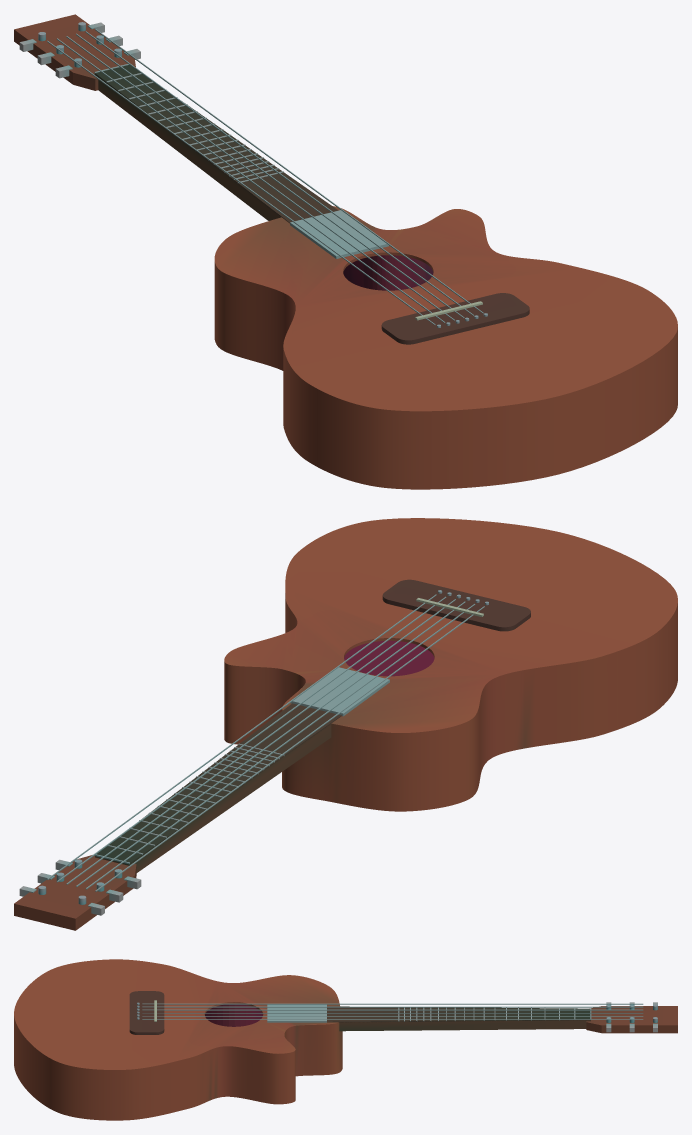
3 renders of one model, top to bottom at view 1: azimuth 30°, elevation 25°; view 2: azimuth 150°, elevation 25°; view 3: azimuth 270°, elevation 25°, orthographic. The views are drawn at different scales.
Visible parts, largest first — view 1: body, fingerboard, head, bridge, neck, heel_fitting, string.002, string.001, string.003, string.004, string.005, string.006; view 2: body, fingerboard, head, bridge, neck, heel_fitting, string.001, string.004, string.005, string.003, string.006, string.002; view 3: body, fingerboard, neck, head, bridge, heel_fitting, string.001, string.002, string.003, string.006, string.004, string.005.
Boxes of the visible parts, bbox=[...] form: body: bbox=[214, 206, 677, 489]; fingerboard: bbox=[95, 65, 338, 223]; head: bbox=[14, 14, 135, 90]; bridge: bbox=[381, 293, 529, 344]; neck: bbox=[94, 74, 280, 220]; heel_fitting: bbox=[290, 210, 388, 258]; string.002: bbox=[56, 38, 445, 322]; string.001: bbox=[47, 40, 435, 324]; string.003: bbox=[66, 36, 454, 320]; string.004: bbox=[76, 33, 464, 317]; string.005: bbox=[85, 31, 473, 315]; string.006: bbox=[95, 29, 483, 313]; body: bbox=[224, 518, 677, 811]; fingerboard: bbox=[95, 703, 341, 863]; head: bbox=[14, 855, 136, 930]; bridge: bbox=[382, 579, 530, 631]; neck: bbox=[95, 724, 331, 872]; heel_fitting: bbox=[290, 667, 389, 716]; string.001: bbox=[95, 606, 484, 891]; string.004: bbox=[66, 599, 455, 884]; string.005: bbox=[56, 596, 446, 882]; string.003: bbox=[76, 601, 465, 886]; string.006: bbox=[47, 594, 436, 879]; string.002: bbox=[85, 604, 475, 889]; body: bbox=[14, 959, 342, 1120]; fingerboard: bbox=[327, 1006, 590, 1022]; neck: bbox=[339, 1020, 590, 1031]; head: bbox=[586, 1006, 677, 1033]; bridge: bbox=[129, 991, 164, 1034]; heel_fitting: bbox=[267, 1004, 326, 1022]; string.001: bbox=[142, 1003, 643, 1004]; string.002: bbox=[142, 1006, 643, 1007]; string.003: bbox=[142, 1009, 643, 1010]; string.006: bbox=[142, 1019, 643, 1019]; string.004: bbox=[142, 1013, 643, 1013]; string.005: bbox=[142, 1016, 643, 1016].
Size of the model in its own units: 0.394 by 0.0905 by 0.999.
